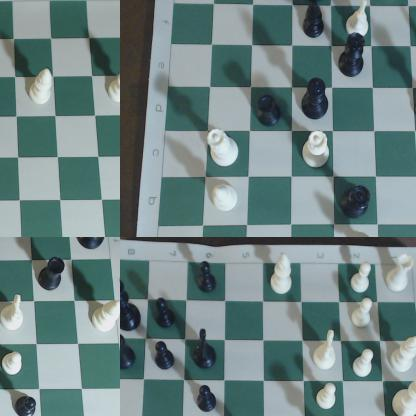black-bishop: (304, 4, 329, 44)
black-king: (302, 77, 333, 122), (121, 275, 145, 333), (79, 238, 118, 259)
black-knight: (194, 327, 219, 372)
black-pawn: (194, 257, 220, 297), (153, 341, 180, 377), (13, 392, 49, 416), (155, 297, 179, 331), (196, 384, 219, 415)
black-queen: (341, 34, 368, 82), (341, 185, 371, 222)
black-rook: (37, 256, 69, 296), (258, 89, 283, 130), (121, 330, 140, 372)
white-bishop: (386, 332, 416, 378), (89, 297, 120, 341), (269, 251, 298, 297), (211, 181, 244, 218), (30, 67, 55, 109), (349, 259, 374, 295), (108, 64, 120, 110)
white-knight: (388, 373, 416, 416), (312, 327, 339, 371), (3, 292, 31, 334), (346, 1, 371, 39)
white-pawn: (1, 349, 31, 384), (351, 298, 376, 329), (353, 348, 377, 379), (315, 383, 340, 411)
white-queen: (204, 127, 243, 168), (302, 129, 335, 173)
white-rook: (386, 253, 416, 293)
